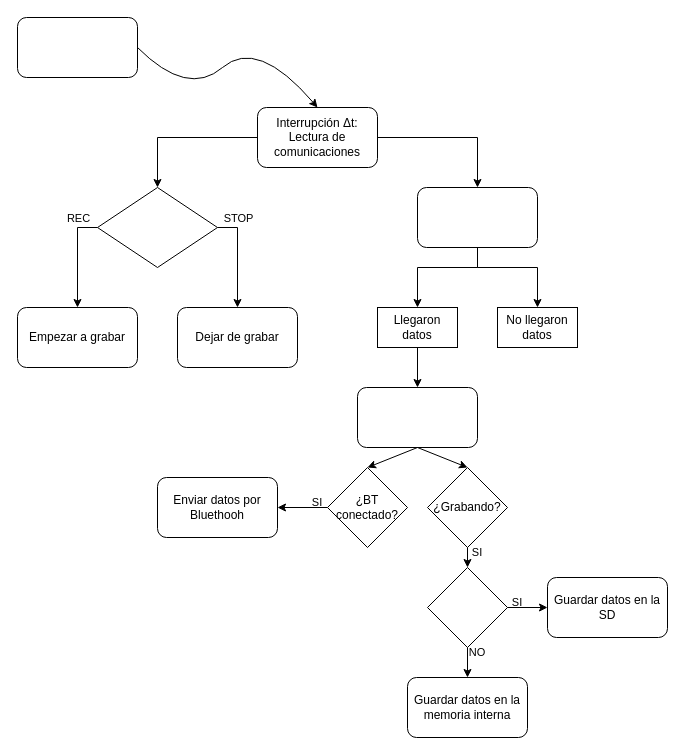
This 685x755 diagram has some shape labels left out. The shapes that lost their labels are listed below. From the top down, each one's centre as x and y in pixels, then its label:
At pixel 77 47: "Inicialización: Variables, Directorios SD, Timers".
At pixel 157 227: "Comando BT".
At pixel 477 217: "Tomar datos GPS".
At pixel 417 417: "Interpretar datos GPS Tomar valores ADC, Digitales".
At pixel 467 607: "¿SD colocada?".
